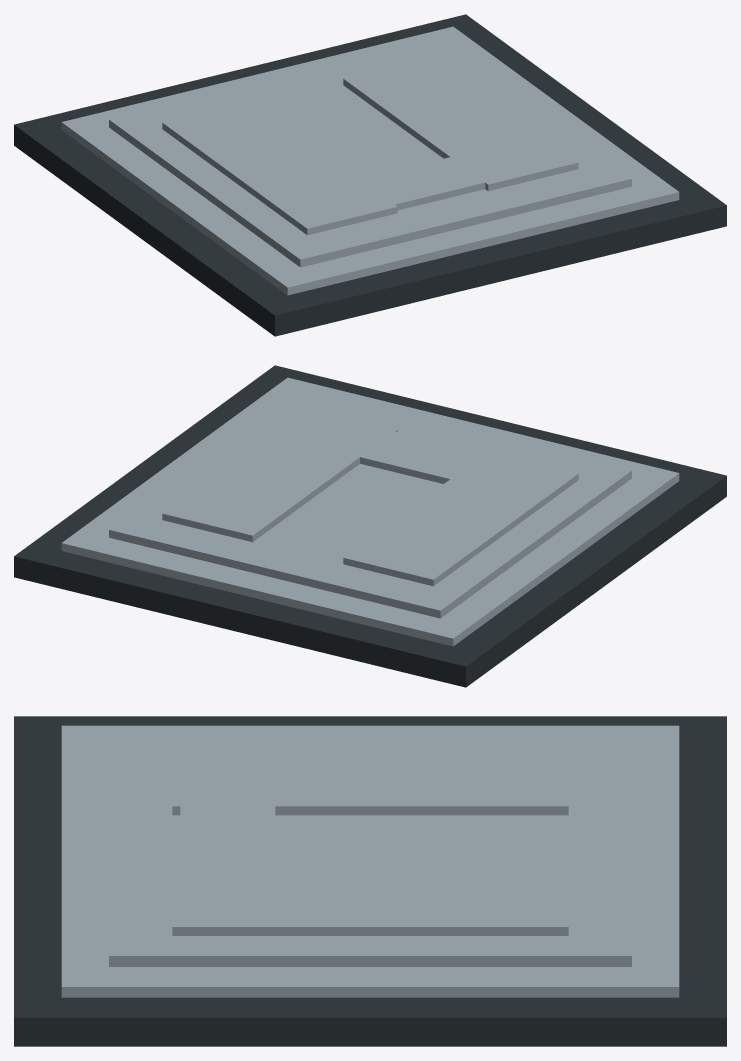
File: manhole.gltf
3 views of the same model, one above another, from view 1: azimuth 30°, elevation 25°; view 2: azimuth 150°, elevation 25°; view 3: azimuth 270°, elevation 25° (orthographic). The views are drawn at different scales.
Visible parts, largest first — view 1: manhole; view 2: manhole; view 3: manhole.
Part boxes in pixels (left/top/right/bottom): manhole: left=14, top=14, right=726, bottom=336; manhole: left=14, top=365, right=726, bottom=687; manhole: left=14, top=716, right=726, bottom=1046.
Size of the model in its own units: 0.9 by 0.0825 by 0.9.
Materials: 1 (1 with a texture image).
